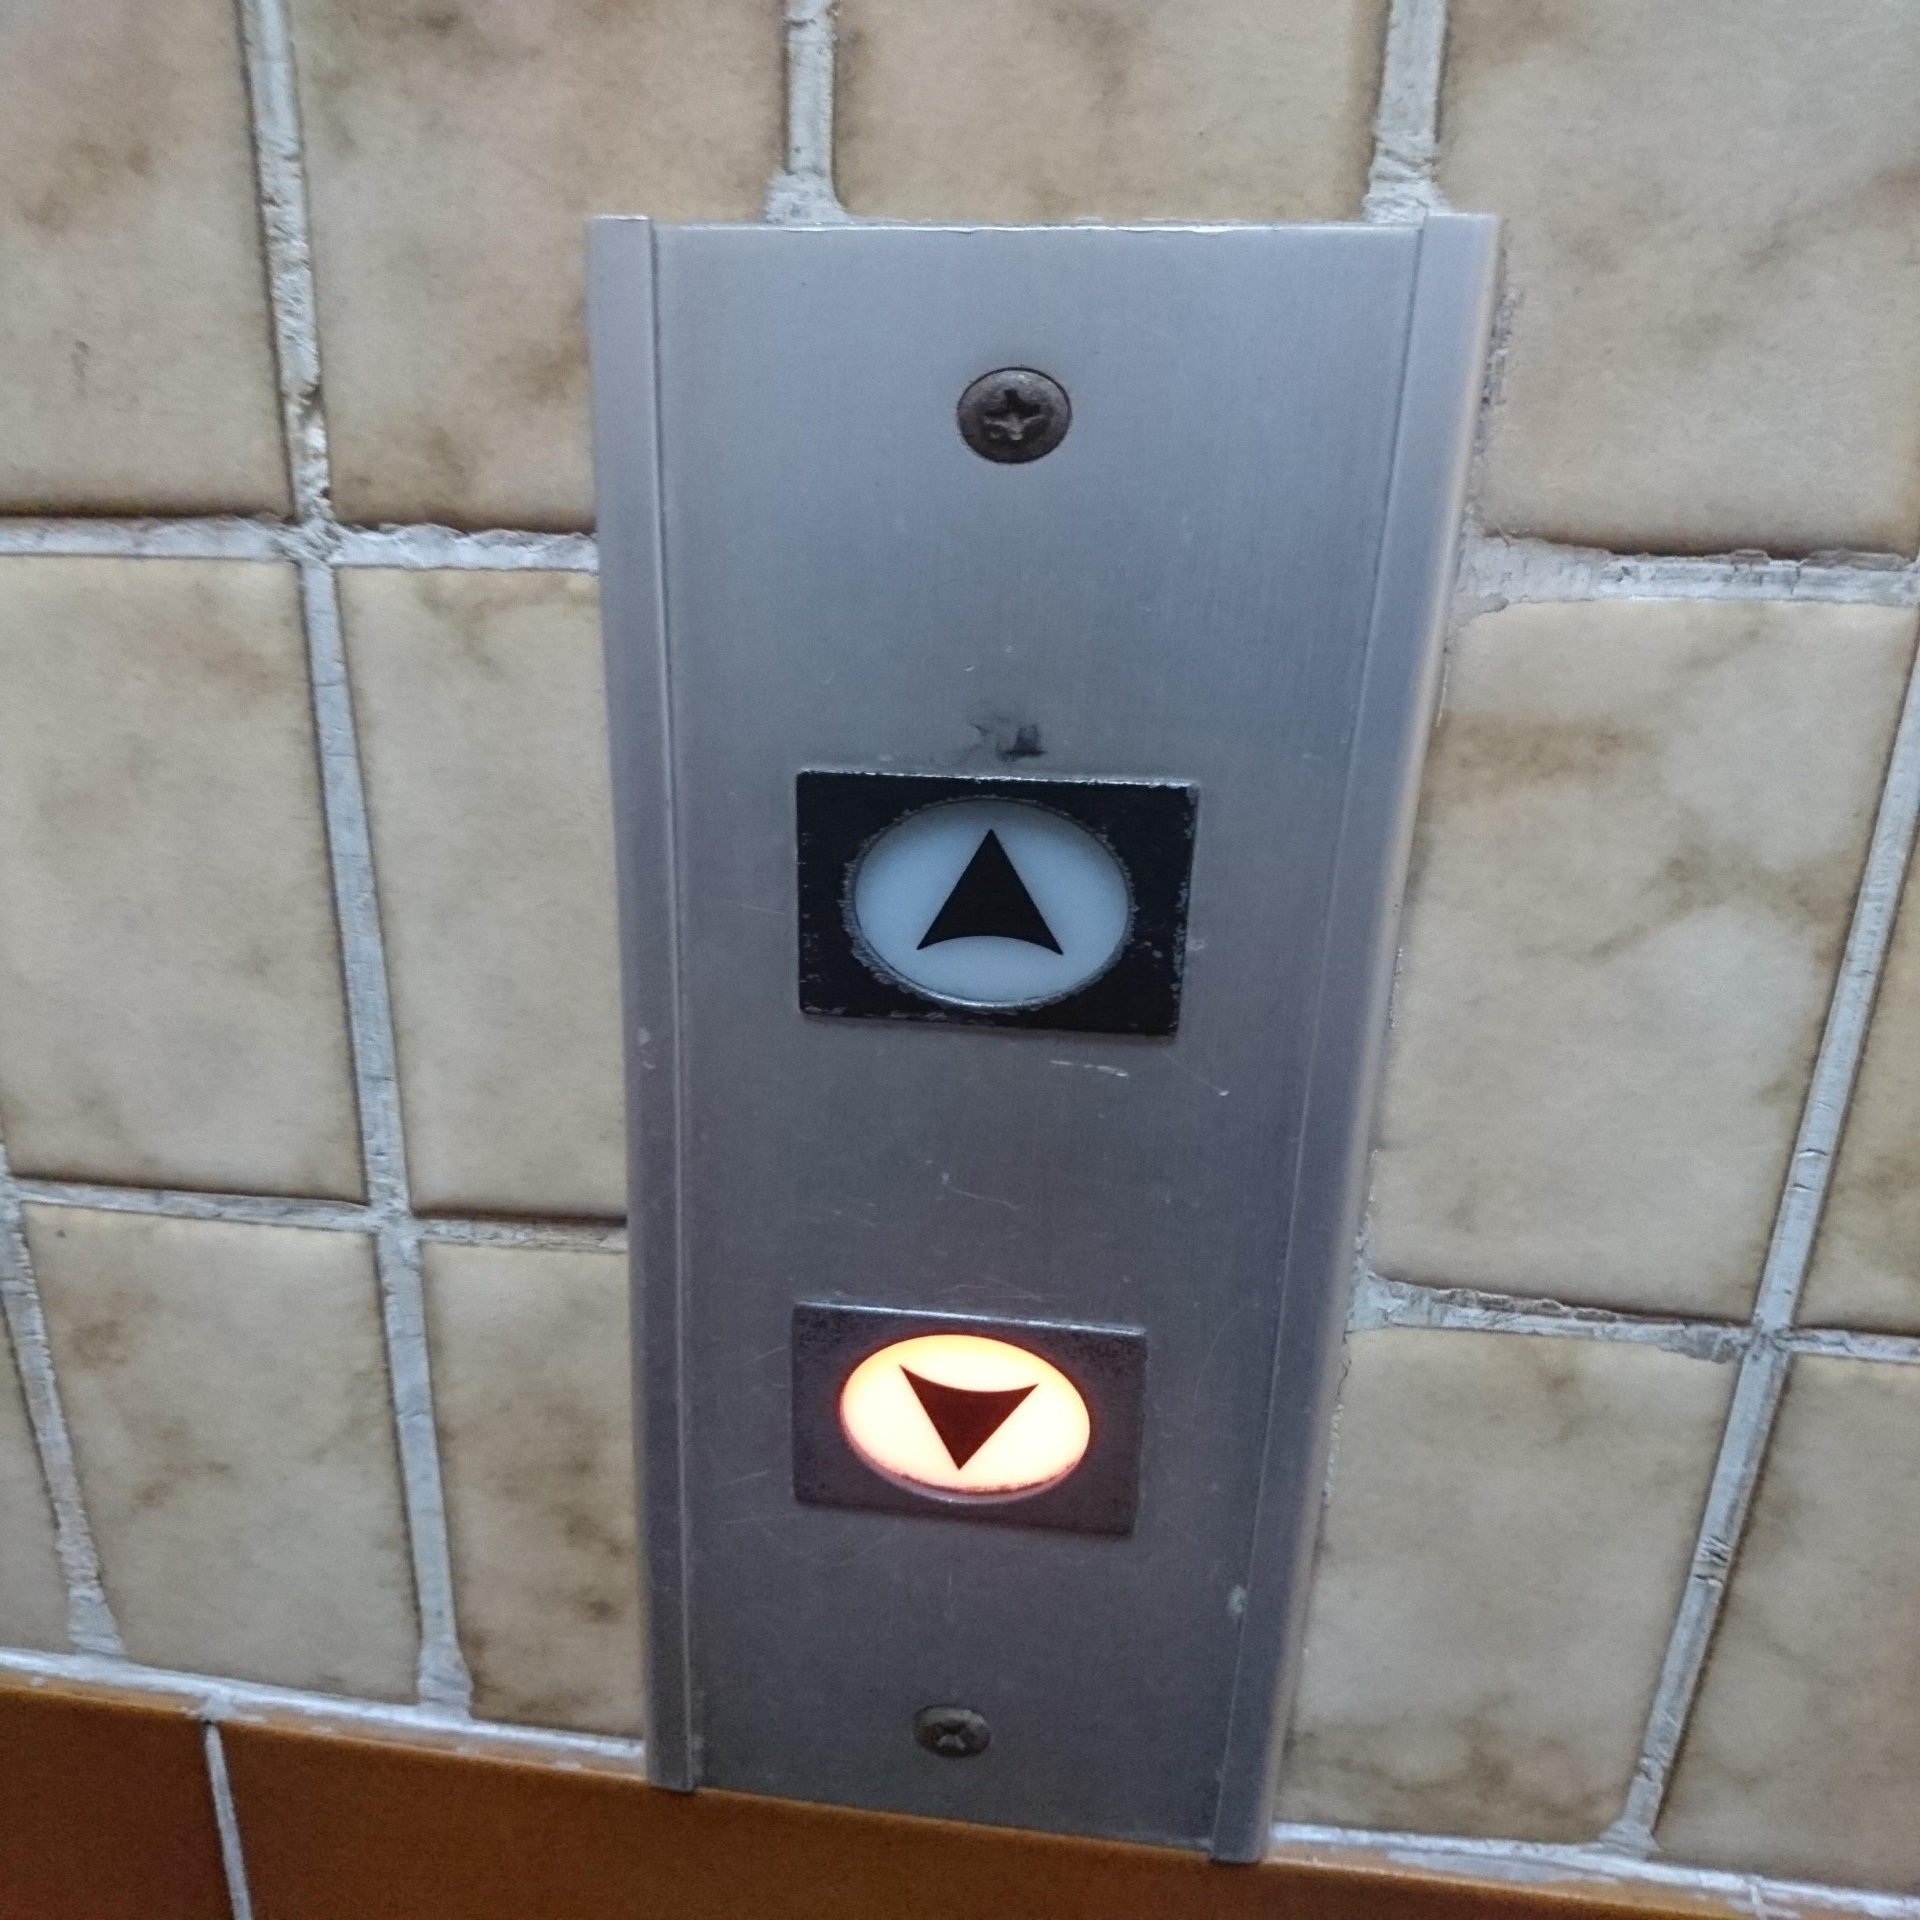down: (775, 1269, 1169, 1554)
up: (784, 753, 1217, 1064)
